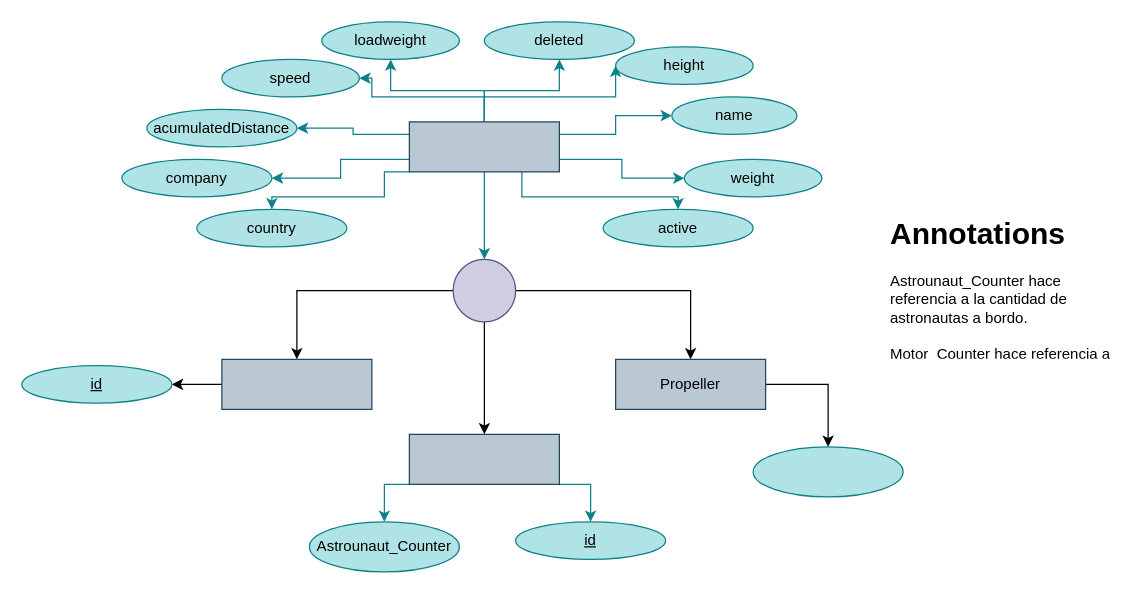
The diagram is 1144 pixels wide and 594 high, and some of its shapes have lost their labels. The box of each missing label's shape, as (x1, y1, x2, y2) in pixels:
Are: (452, 258, 516, 322)
Motor_Counter: (752, 446, 903, 497)
NotTripulated: (221, 358, 372, 409)
Rocket: (408, 121, 559, 172)
Tripulated: (408, 433, 559, 484)
